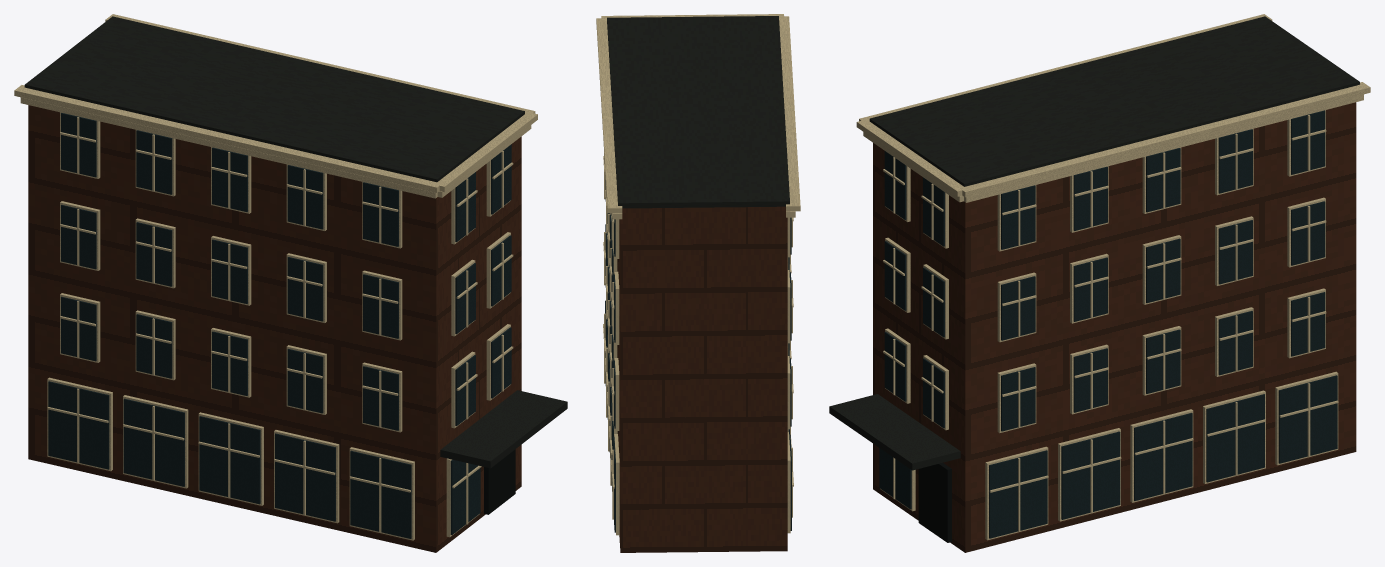
The picture shows the model from 3 angles, left to right: view 1: azimuth 30°, elevation 25°; view 2: azimuth 150°, elevation 25°; view 3: azimuth 270°, elevation 25°; orthographic projection. The views are drawn at different scales.
Parts seen in each view (by area): view 1: prinsenstraat-buurt-0, prinsenstraat-buurt-3, prinsenstraat-buurt-1, prinsenstraat-buurt-2, prinsenstraat-buurt-4; view 2: prinsenstraat-buurt-0, prinsenstraat-buurt-1, prinsenstraat-buurt-2, prinsenstraat-buurt-3; view 3: prinsenstraat-buurt-0, prinsenstraat-buurt-3, prinsenstraat-buurt-1, prinsenstraat-buurt-2, prinsenstraat-buurt-4.
Part boxes in pixels (bbox=[...]): prinsenstraat-buurt-0: bbox=[28, 105, 521, 552]; prinsenstraat-buurt-3: bbox=[48, 113, 511, 538]; prinsenstraat-buurt-1: bbox=[24, 16, 567, 468]; prinsenstraat-buurt-2: bbox=[14, 14, 537, 540]; prinsenstraat-buurt-4: bbox=[484, 449, 515, 514]; prinsenstraat-buurt-0: bbox=[617, 206, 787, 552]; prinsenstraat-buurt-1: bbox=[607, 16, 789, 208]; prinsenstraat-buurt-2: bbox=[596, 14, 800, 535]; prinsenstraat-buurt-3: bbox=[605, 180, 791, 532]; prinsenstraat-buurt-0: bbox=[873, 102, 1356, 552]; prinsenstraat-buurt-3: bbox=[879, 110, 1337, 538]; prinsenstraat-buurt-1: bbox=[829, 16, 1359, 470]; prinsenstraat-buurt-2: bbox=[856, 14, 1370, 540]; prinsenstraat-buurt-4: bbox=[918, 462, 951, 542].
Size of the model in its own units: 16.79 by 16.04 by 21.24.
5 materials, 5 textured.
